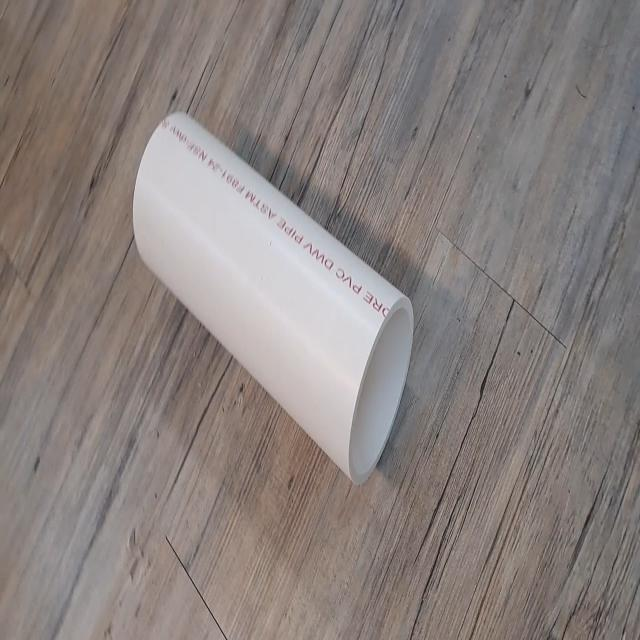CORAL: (132, 104, 417, 487)
